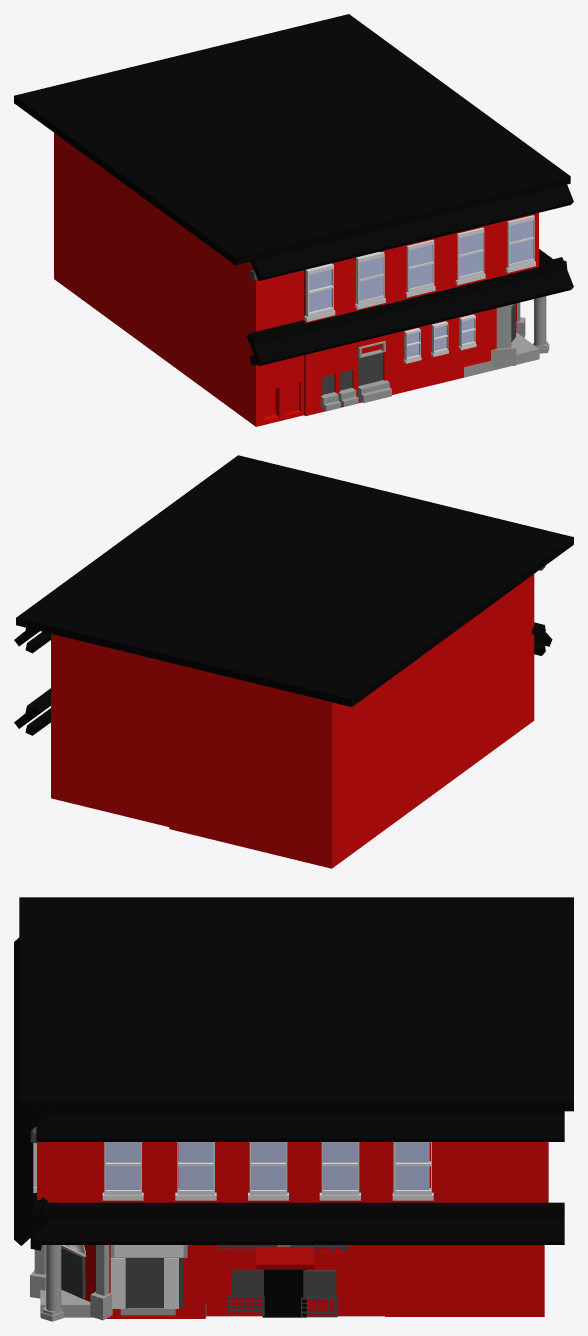
File: BrockenbroughBuilding.fbx
3 renders of one model, top to bottom at view 1: azimuth 30°, elevation 25°; view 2: azimuth 150°, elevation 25°; view 3: azimuth 270°, elevation 25°, orthographic. The views are drawn at different scales.
Visible parts, largest first — view 1: pCube19, pCube99, pCube83, pCube8, pCube102, pCube6, pCube9, pCube28, pCube126, pCube123, pCube5, pCube114 (+10 smaller); view 2: pCube19, pCube99, pCube96, pCube21, pCube22; view 3: pCube19, pCube96, pCube21, pCube67, pCube22, pCube17, pCube18, pCube6, pCube28, pCube112, pCube8, pCube113 (+24 smaller).
Part boxes in pixels (bbox=[...]): pCube19: bbox=[14, 14, 570, 265]; pCube99: bbox=[54, 133, 380, 426]; pCube83: bbox=[304, 257, 463, 416]; pCube8: bbox=[247, 257, 573, 366]; pCube102: bbox=[251, 184, 573, 280]; pCube6: bbox=[379, 213, 538, 305]; pCube9: bbox=[250, 260, 567, 345]; pCube28: bbox=[464, 303, 516, 367]; pCube126: bbox=[359, 257, 383, 300]; pCube123: bbox=[509, 220, 533, 263]; pCube5: bbox=[437, 333, 539, 384]; pCube114: bbox=[305, 269, 331, 316]; pCube19: bbox=[16, 455, 573, 706]; pCube99: bbox=[169, 574, 534, 868]; pCube96: bbox=[51, 634, 169, 826]; pCube21: bbox=[14, 688, 50, 735]; pCube22: bbox=[14, 627, 50, 653]; pCube19: bbox=[19, 897, 573, 1111]; pCube96: bbox=[385, 1142, 544, 1316]; pCube21: bbox=[39, 1202, 564, 1244]; pCube67: bbox=[110, 1142, 384, 1316]; pCube22: bbox=[39, 1111, 564, 1141]; pCube17: bbox=[36, 1202, 213, 1244]; pCube18: bbox=[36, 1111, 213, 1141]; pCube6: bbox=[37, 1142, 109, 1202]; pCube28: bbox=[61, 1245, 205, 1318]; pCube112: bbox=[125, 1258, 182, 1308]; pCube8: bbox=[14, 1131, 50, 1245]; pCube113: bbox=[262, 1269, 306, 1317].
Bounding box in the file's own units: 47.59 × 24.53 × 54.09.
